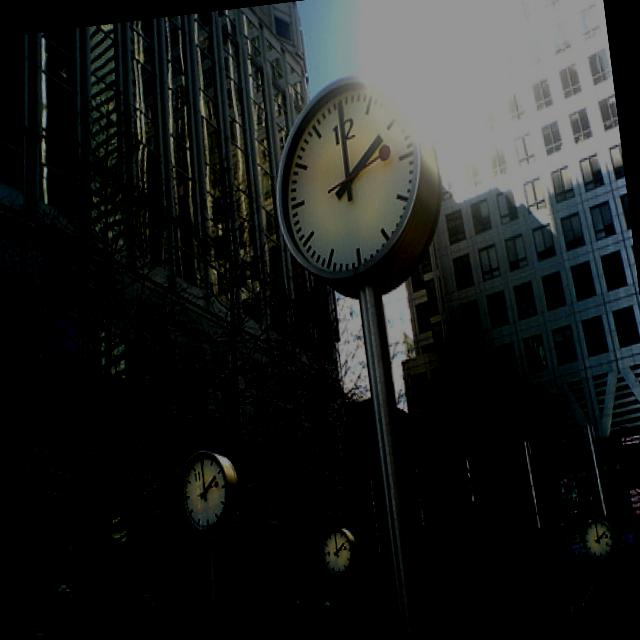Vehicle: (534, 505, 640, 584)
